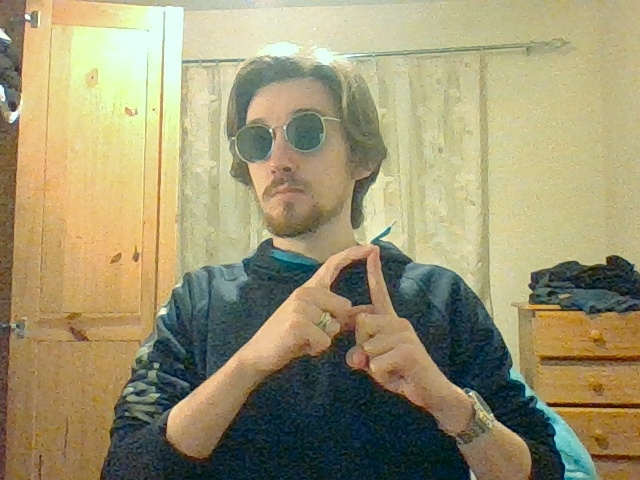daughter: (299, 245, 404, 352)
